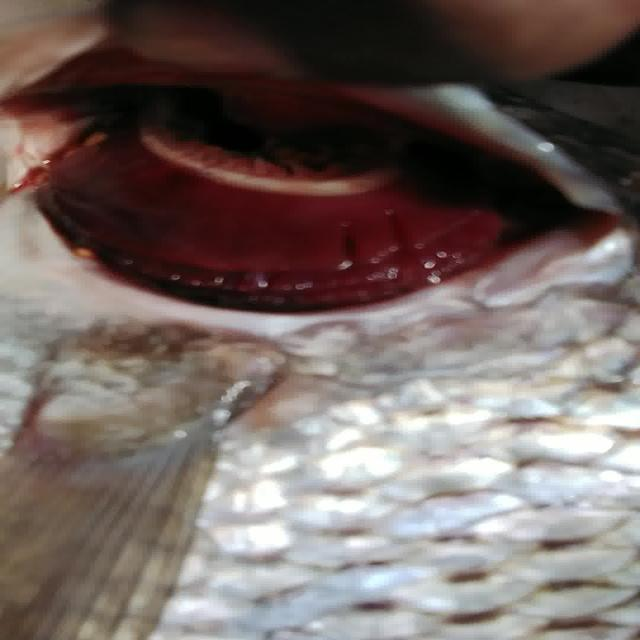Fresh: (14, 98, 559, 329)
